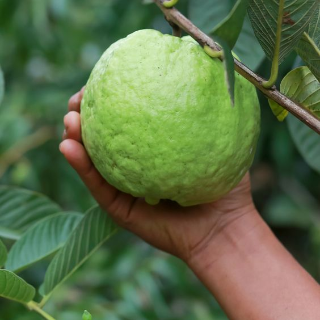oi: (82, 28, 258, 207)
